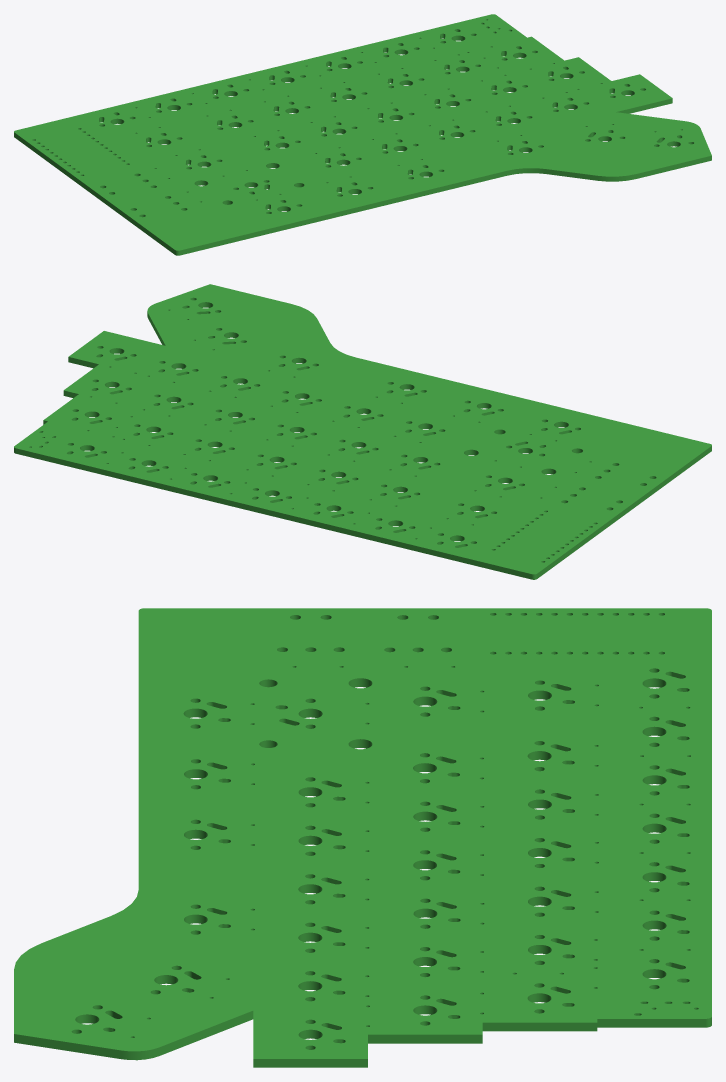
File: l_pcb.gltf
The picture shows the model from 3 angles, top to bottom: view 1: azimuth 30°, elevation 25°; view 2: azimuth 150°, elevation 25°; view 3: azimuth 270°, elevation 25°; orthographic projection. The views are drawn at different scales.
Visible parts, largest first — view 1: left 1; view 2: left 1; view 3: left 1.
Part boxes in pixels (x1,y1,x2,y2): left 1: [14, 14, 711, 255]; left 1: [14, 284, 711, 579]; left 1: [14, 608, 711, 1067].
Size of the model in its own units: 0.1767 by 0.0016 by 0.1157.
